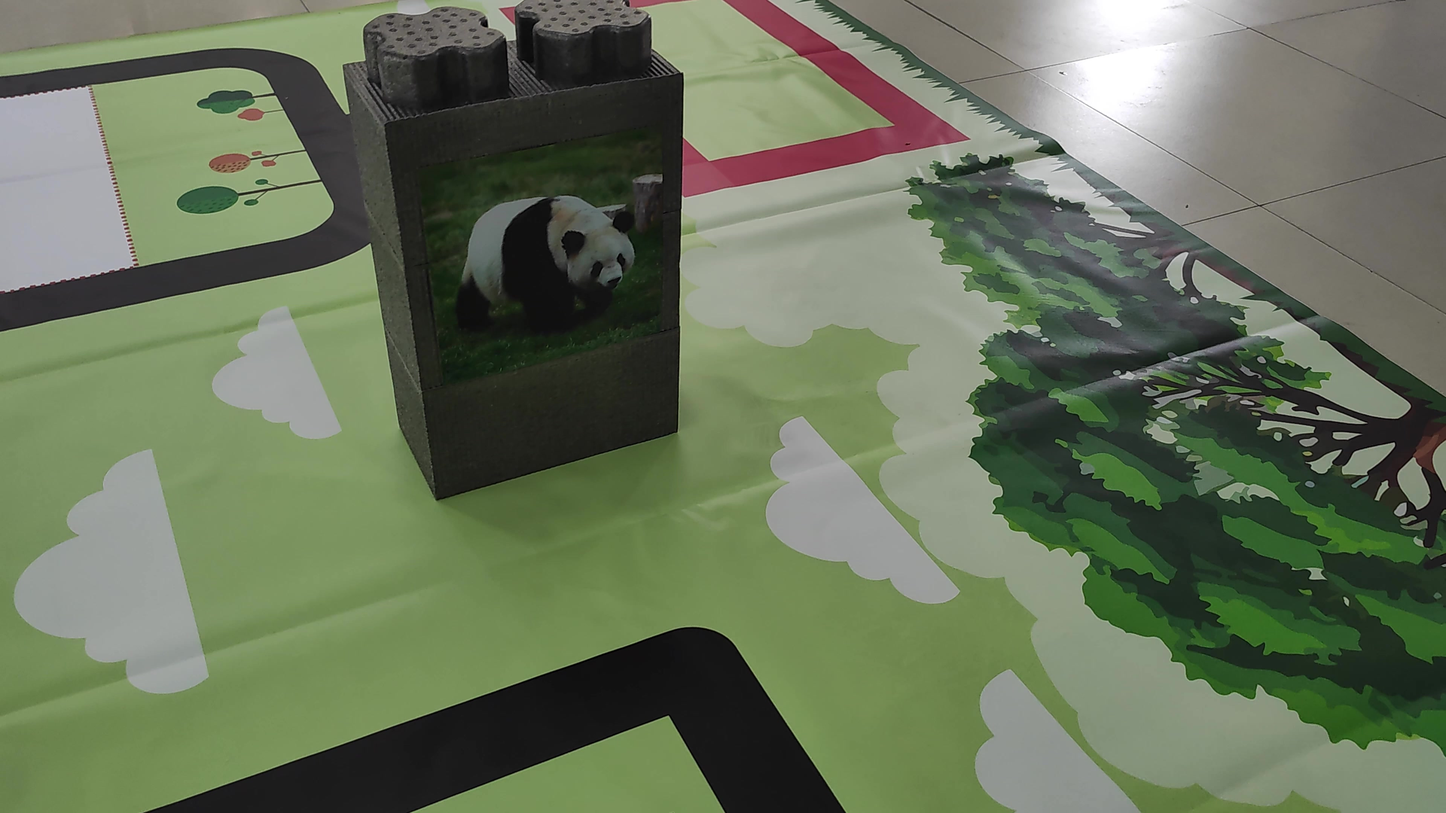panda: (423, 162, 656, 357)
